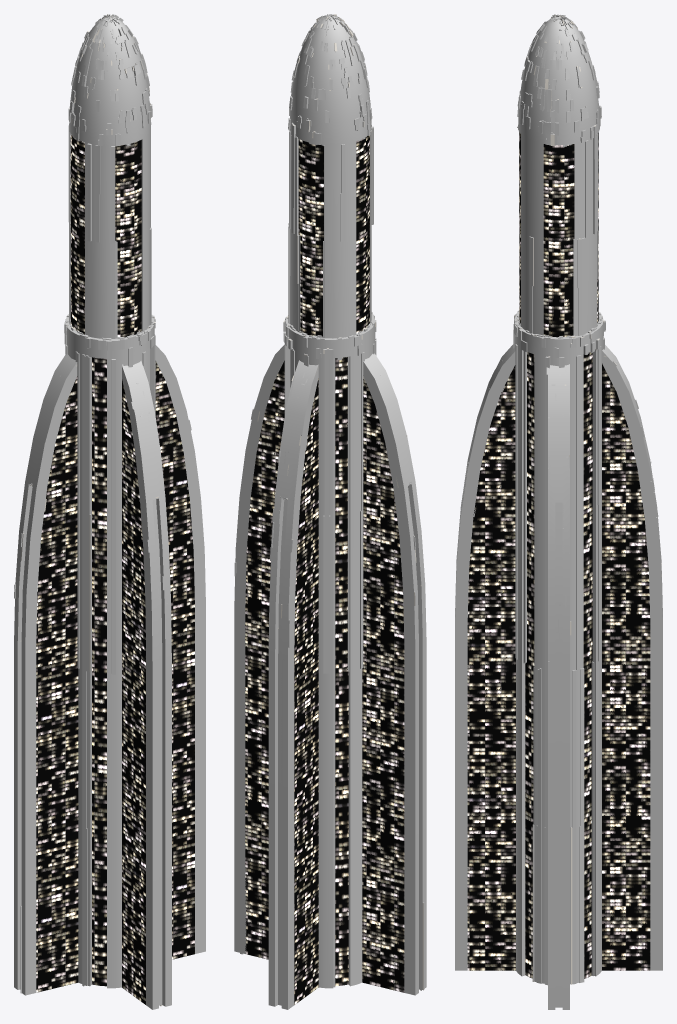
Rendered from Star_8.glb.
The picture shows the model from 3 angles, left to right: view 1: azimuth 30°, elevation 25°; view 2: azimuth 150°, elevation 25°; view 3: azimuth 270°, elevation 25°; orthographic projection.
Visible parts, largest first — view 1: Building8; view 2: Building8; view 3: Building8.
Boxes of the visible parts, x1=… form: Building8: x1=14, y1=14, x2=205, y2=1009; Building8: x1=234, y1=14, x2=426, y2=1009; Building8: x1=455, y1=14, x2=662, y2=1009.
Bounding box in the file's own units: 2.76 × 13.86 × 2.74.
Materials: 3 (1 with a texture image).
